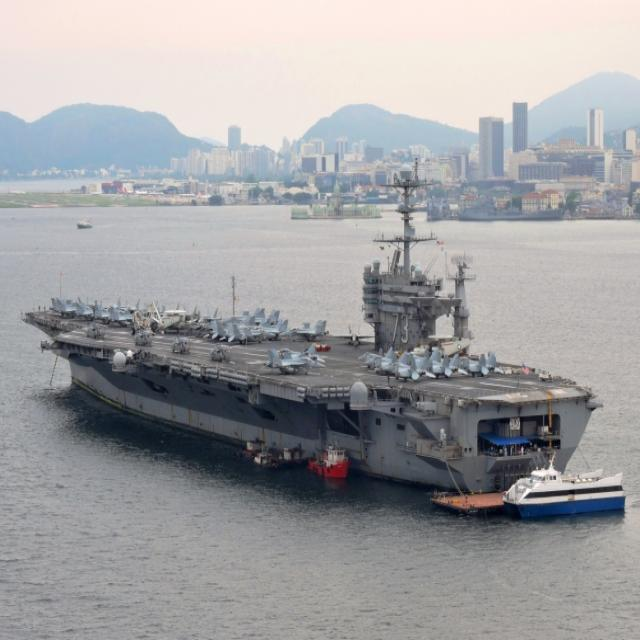Portanaves: (17, 150, 603, 505)
